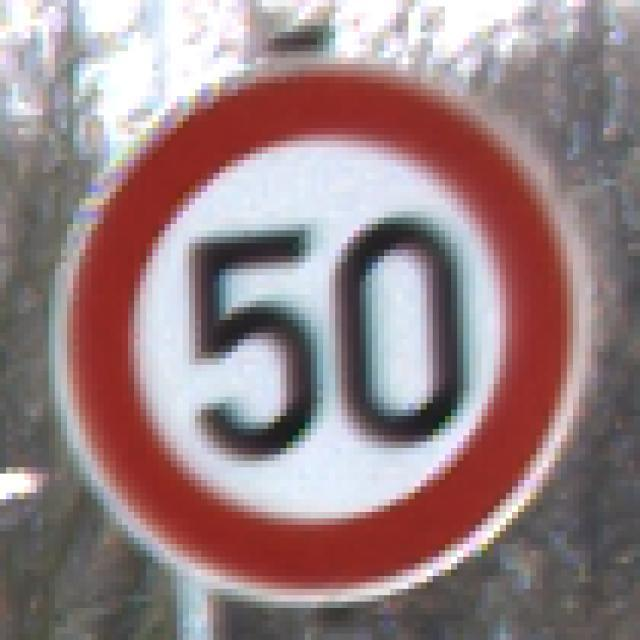speed limit 50: (45, 54, 604, 612)
